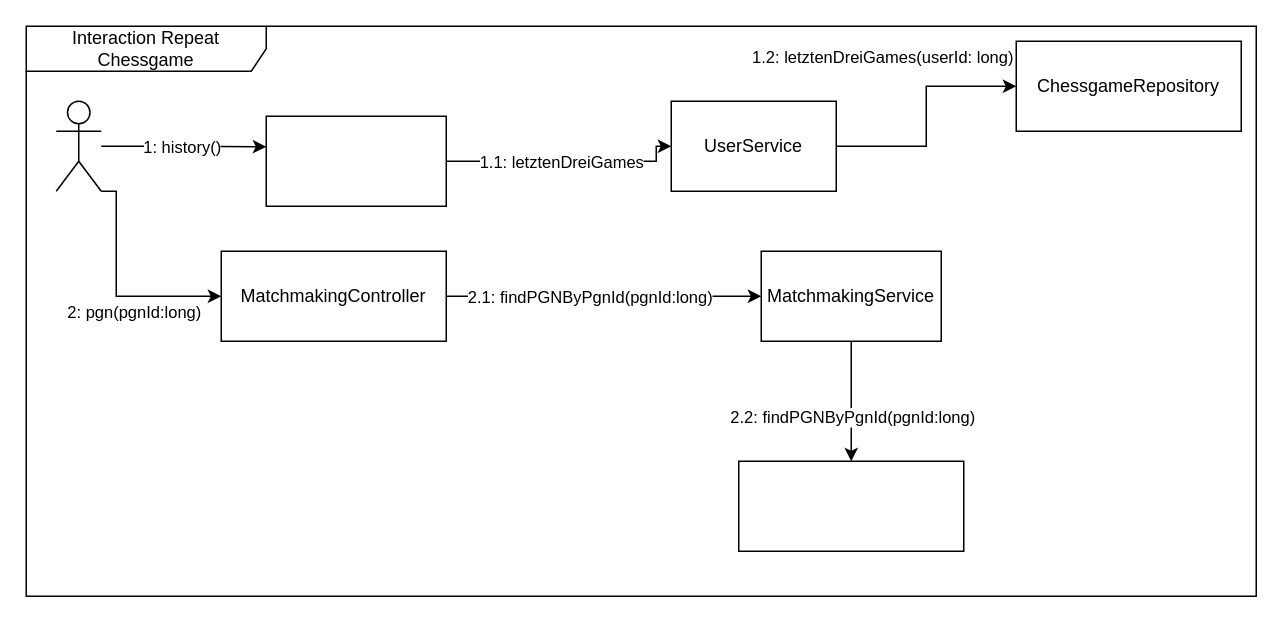
The diagram is 1283 pixels wide and 623 high, and some of its shapes have lost their labels. The shapes that lost their labels are listed below. From the top down, each one's centre as x and y in pixels, then its label:
At (x=78, y=145): "User".
At (x=355, y=160): "UserController".
At (x=850, y=505): "PgnRepository".
